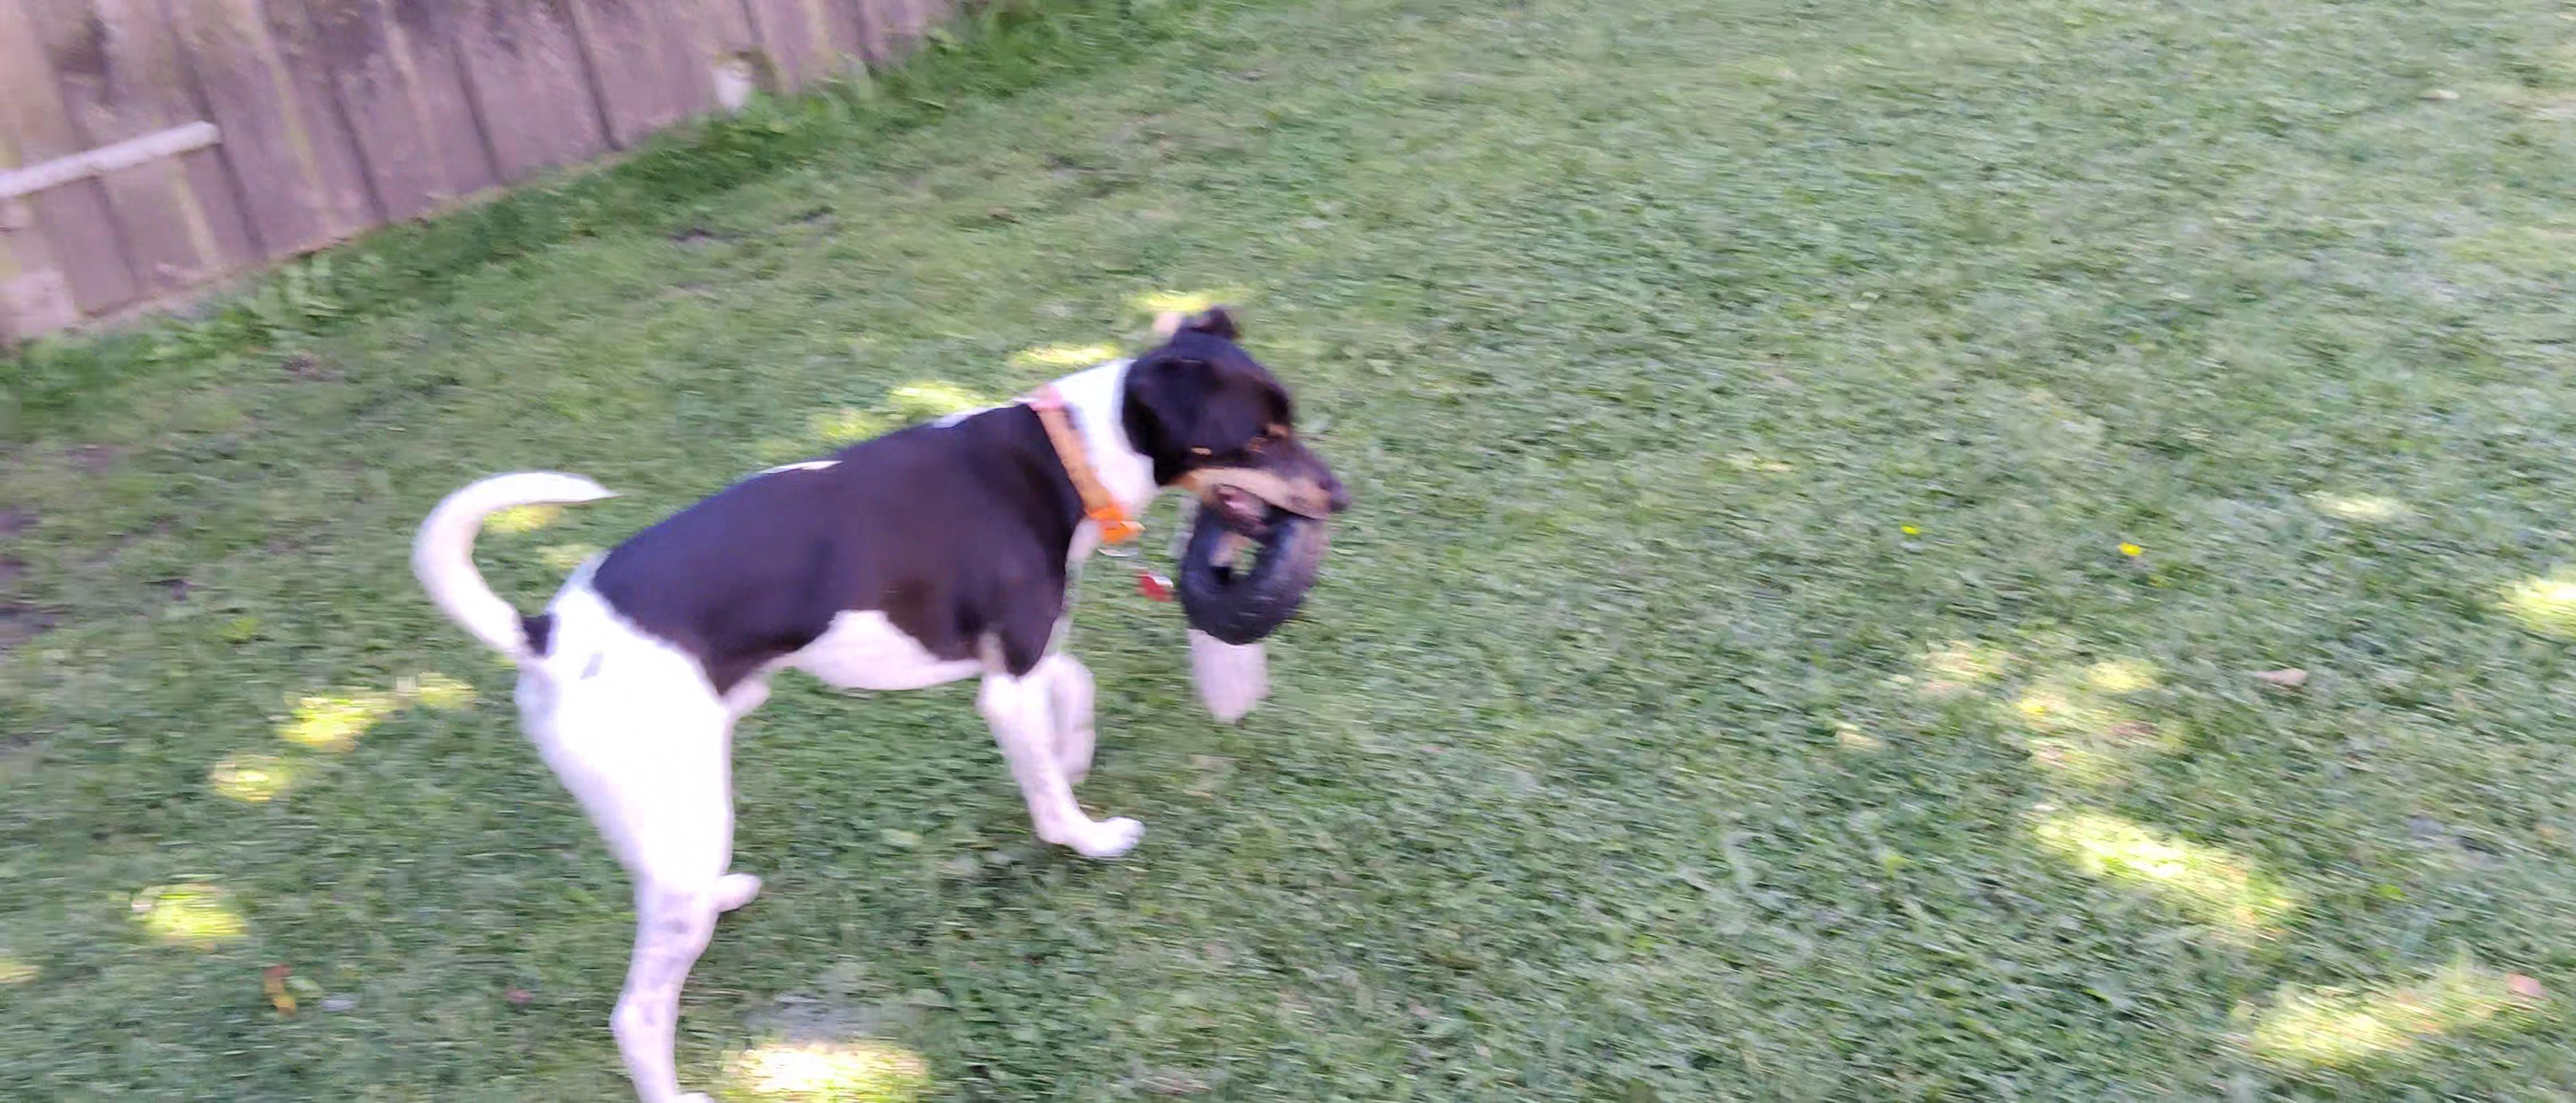Dog: (379, 293, 1375, 1103)
